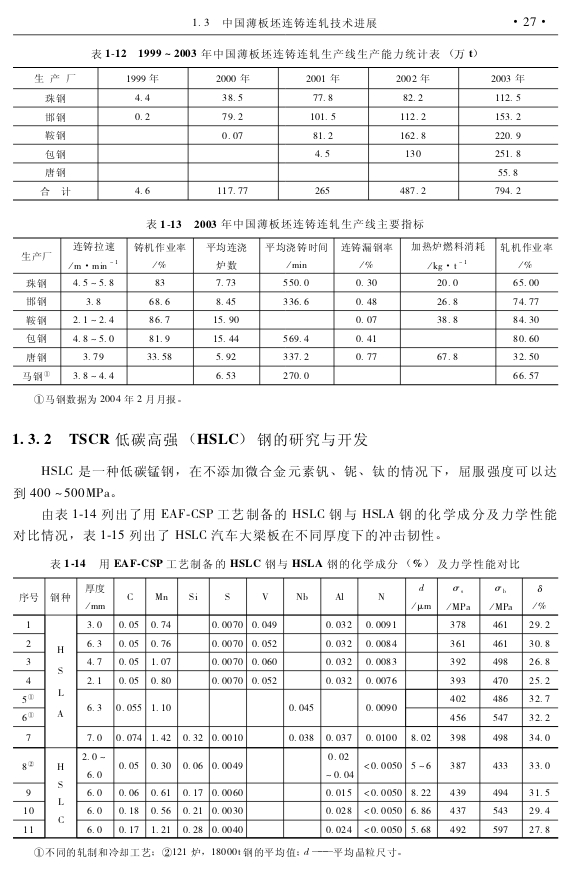table: (13, 577, 558, 839), (13, 237, 559, 386), (13, 67, 558, 201)
